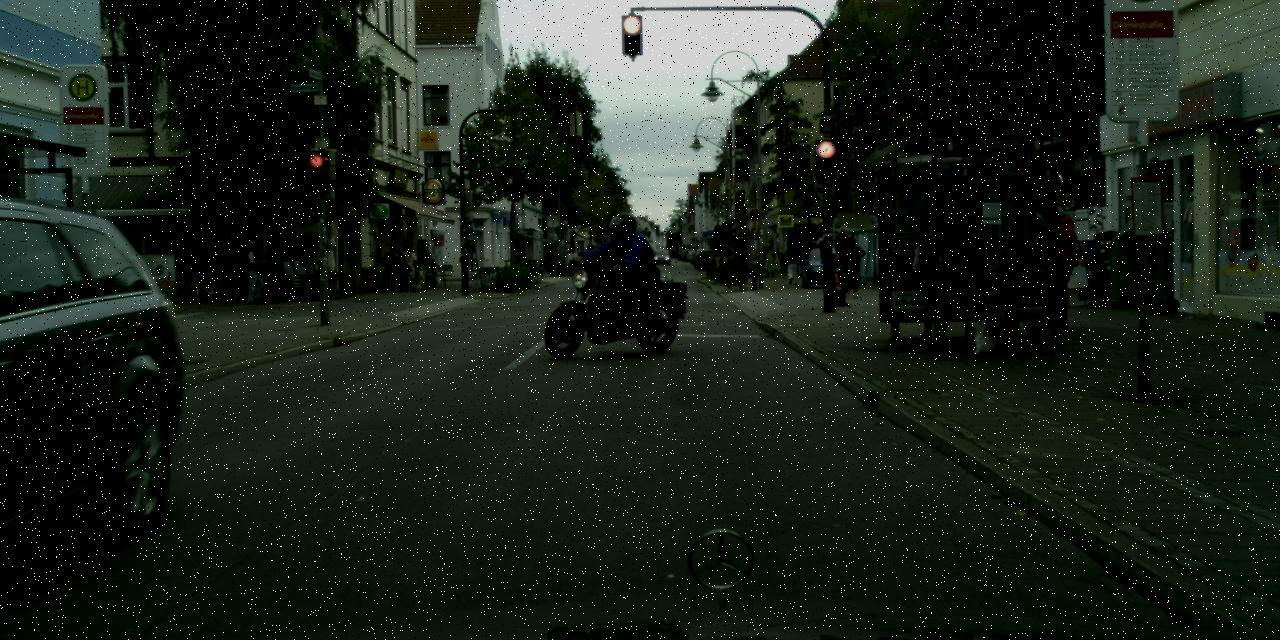ped: (1022, 198, 1076, 330), (906, 210, 960, 340), (601, 210, 647, 324), (826, 224, 860, 306), (241, 240, 267, 304), (838, 236, 862, 295), (784, 242, 800, 284), (762, 242, 776, 277), (813, 237, 823, 247)
